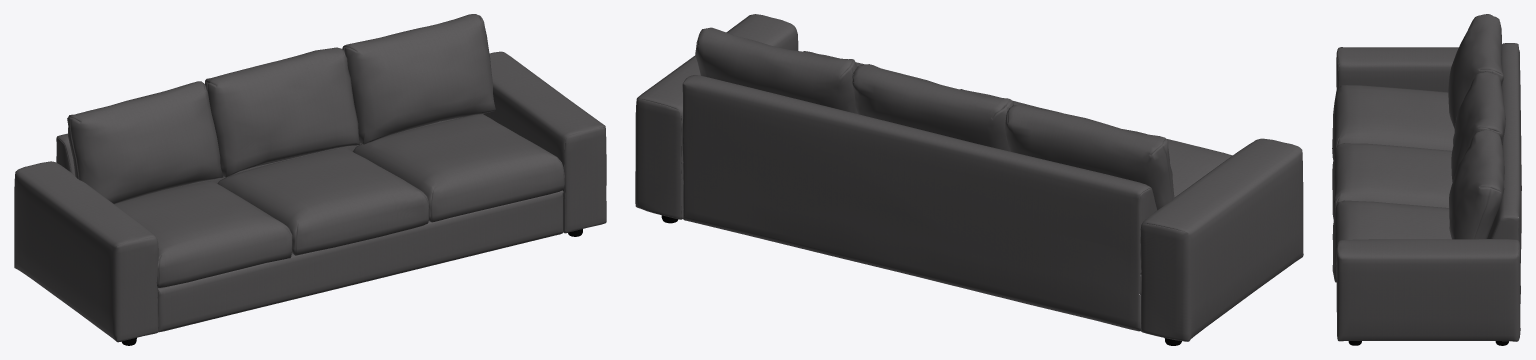
The model's file is 51 - VIMLE 3-seat sofa - with wide armrestsHallarp grey.glb.
The picture shows the model from 3 angles, left to right: view 1: azimuth 30°, elevation 25°; view 2: azimuth 150°, elevation 25°; view 3: azimuth 270°, elevation 25°; orthographic projection. The views are drawn at different scales.
Visible parts, largest first — view 1: Mesh_0; view 2: Mesh_0; view 3: Mesh_0.
Part boxes in pixels (x1,y1,x2,y2): Mesh_0: (14,14,606,345); Mesh_0: (635,14,1303,345); Mesh_0: (1332,14,1521,345).
Size of the model in its own units: 2.57 by 0.8521 by 0.972.
1 material, 1 textured.
